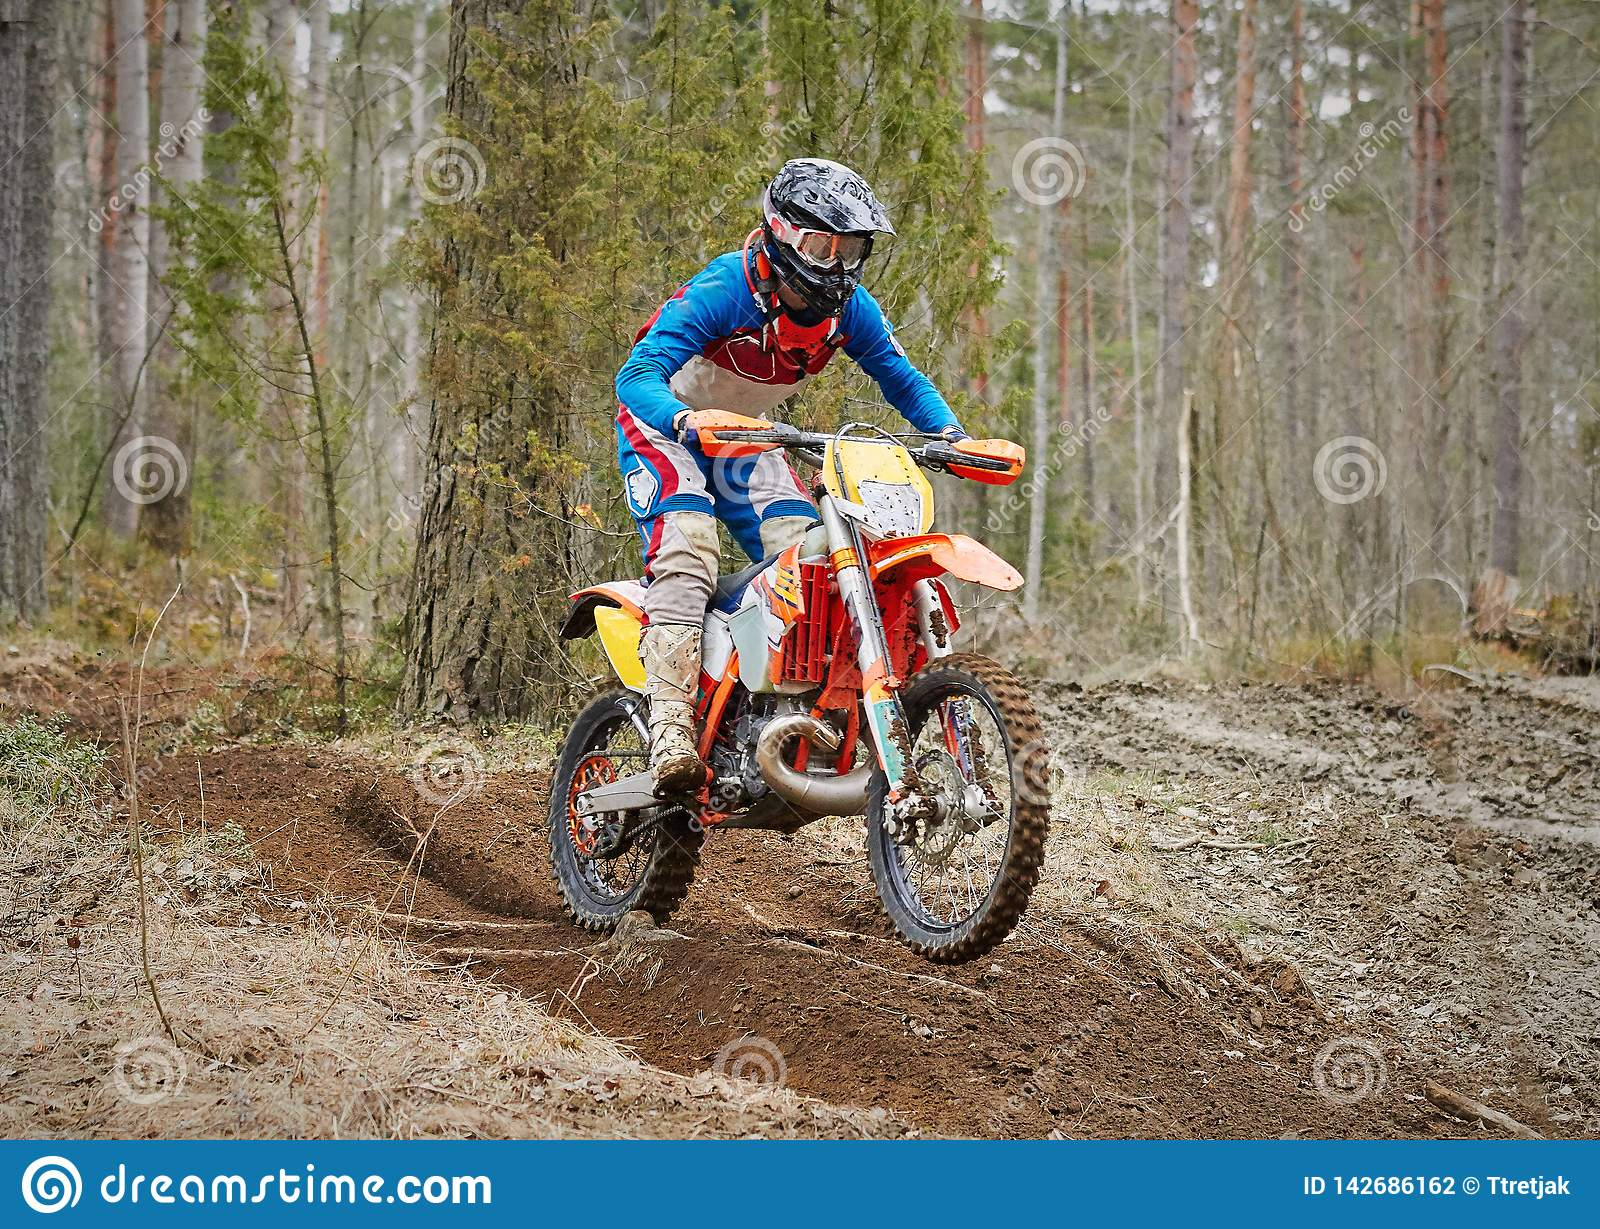helmet: (757, 151, 893, 309)
